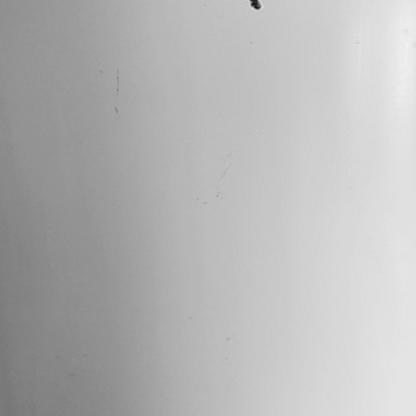kongdong: (247, 1, 263, 14)
